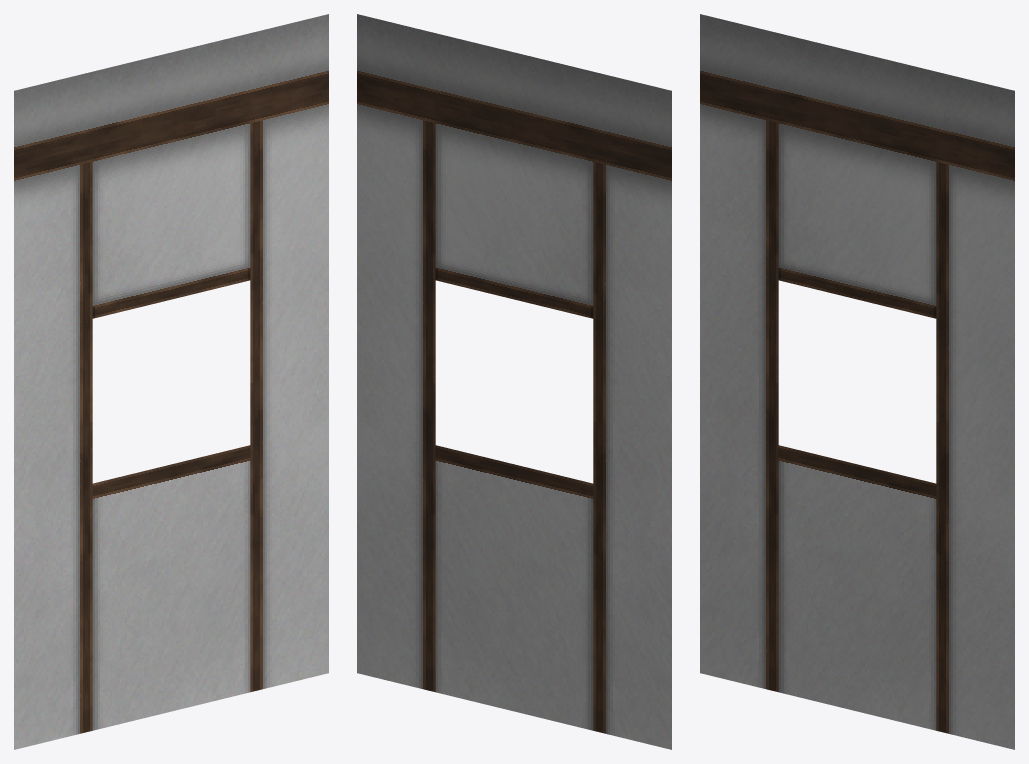
File: house_wall_b_window.glb
3 views of the same model, side by side, from view 1: azimuth 30°, elevation 25°; view 2: azimuth 150°, elevation 25°; view 3: azimuth 330°, elevation 25° (orthographic).
Visible parts, largest first — view 1: house_wall_b_window; view 2: house_wall_b_window; view 3: house_wall_b_window.
Part boxes in pixels (left/top/right/bottom): house_wall_b_window: left=14, top=14, right=328, bottom=749; house_wall_b_window: left=357, top=14, right=671, bottom=749; house_wall_b_window: left=700, top=14, right=1014, bottom=749.
Size of the model in its own units: 2 by 4 by 0.
Materials: 1 (1 with a texture image).
